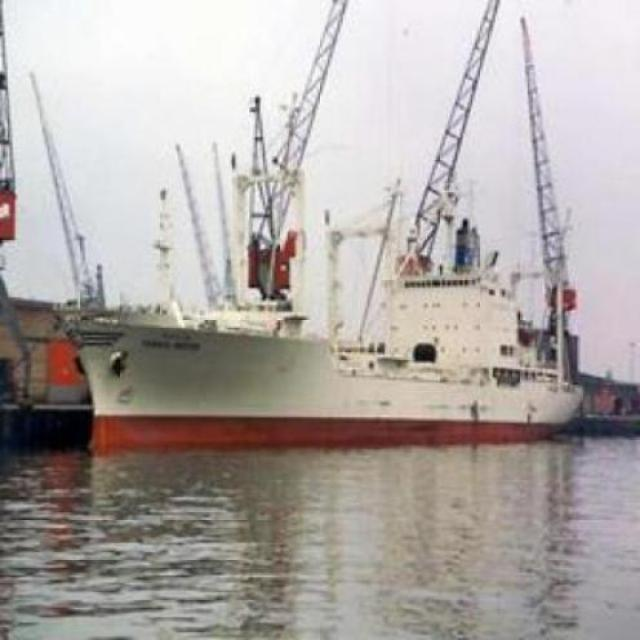boat: (42, 274, 613, 458)
